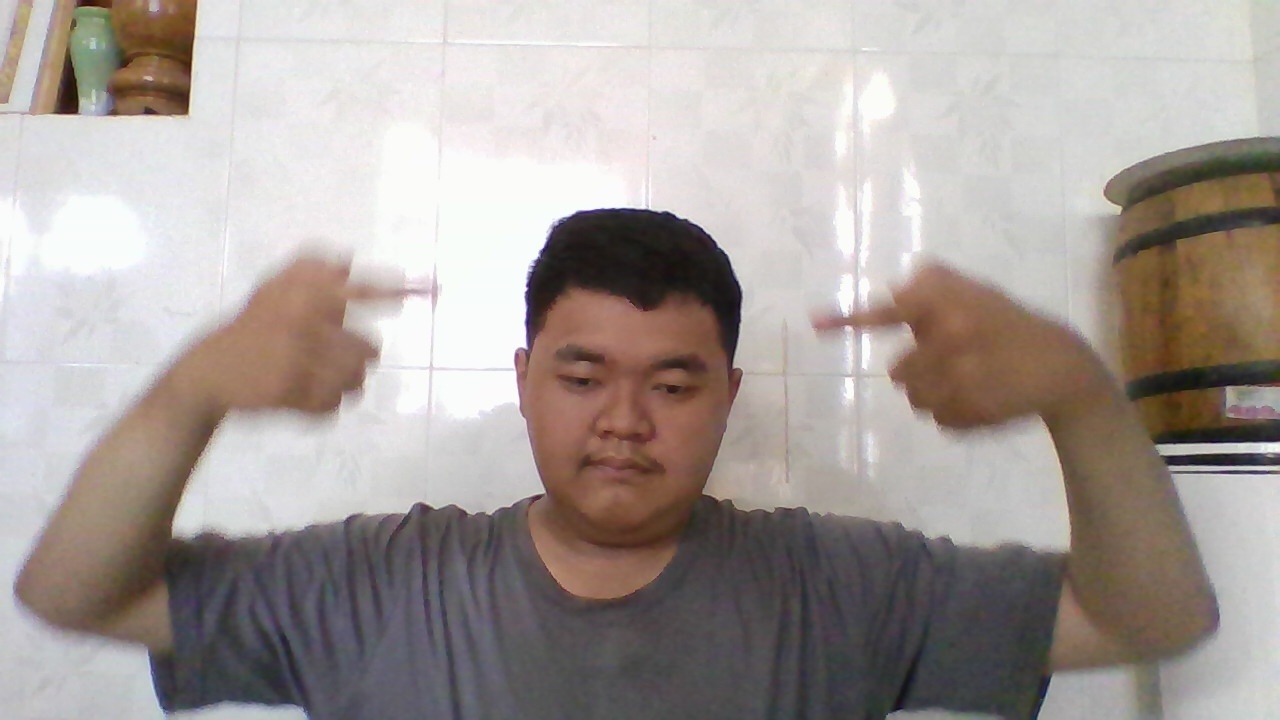G: (801, 277, 1082, 436), (190, 262, 440, 419)
